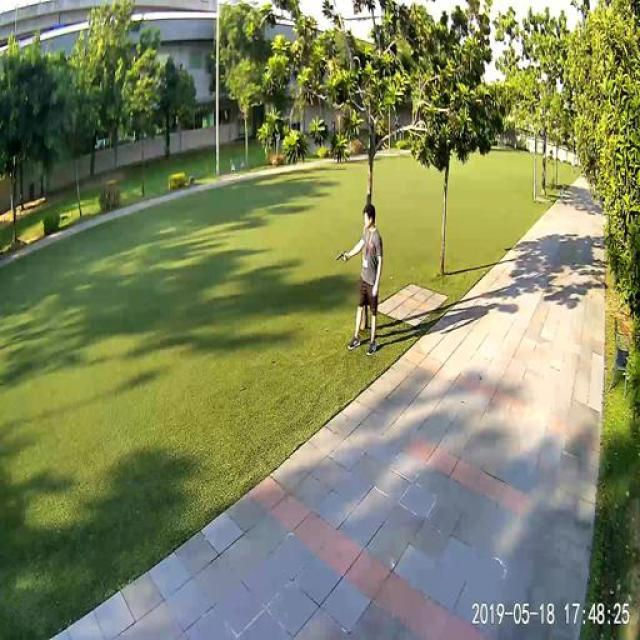Gun: (332, 246, 356, 276)
